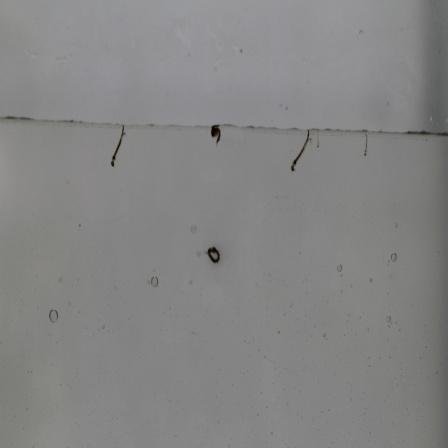Jentik-Nyamuk: (288, 128, 311, 175), (107, 121, 128, 172), (203, 241, 223, 268), (207, 123, 222, 148), (361, 133, 372, 158)
